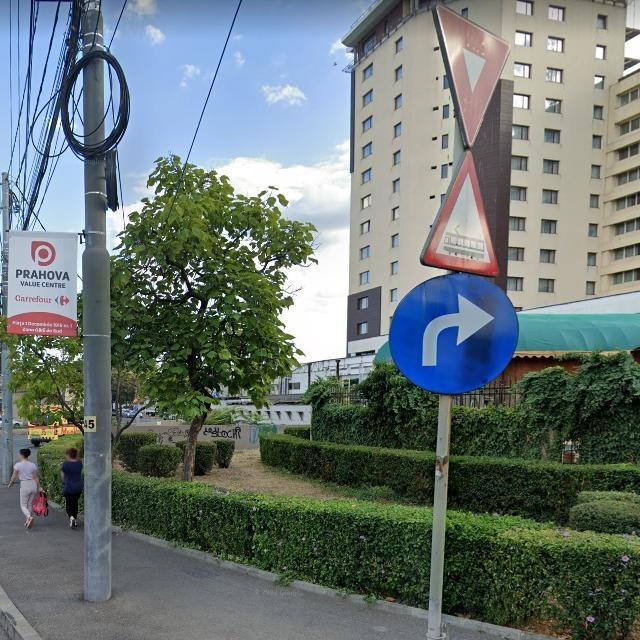prio_give_way: (431, 2, 510, 152)
